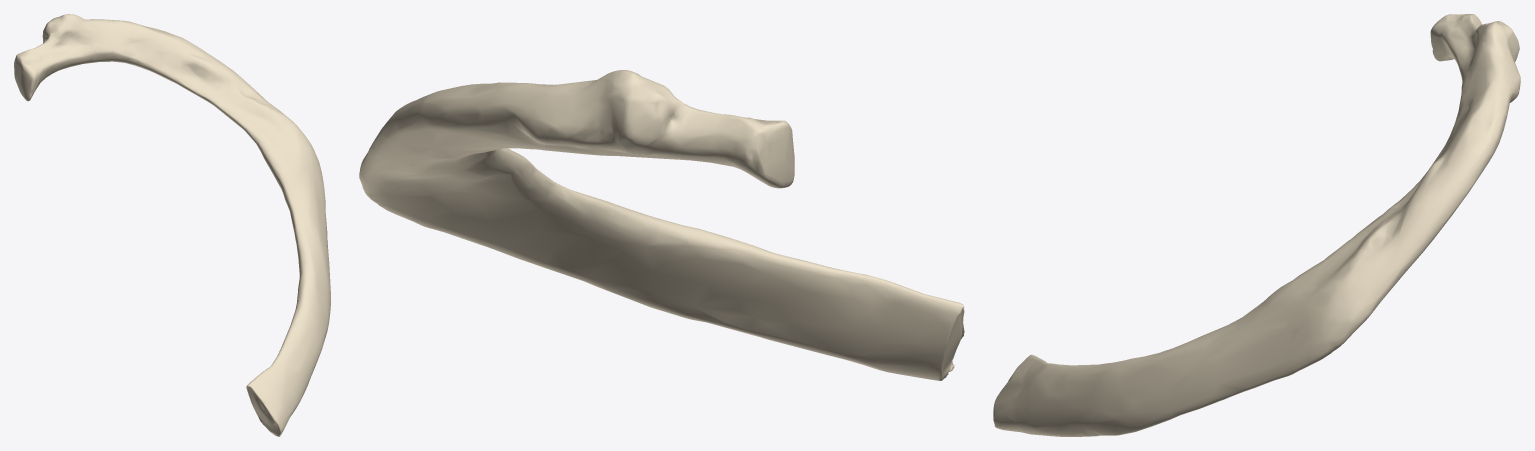
File: second-rib-l.glb
3 renders of one model, left to right at view 1: azimuth 30°, elevation 25°; view 2: azimuth 150°, elevation 25°; view 3: azimuth 270°, elevation 25°, orthographic. The views are drawn at different scales.
Parts seen in each view (by area): view 1: Second rib.l; view 2: Second rib.l; view 3: Second rib.l.
Boxes of the visible parts, bbox=[...] form: Second rib.l: bbox=[14, 14, 330, 436]; Second rib.l: bbox=[359, 70, 964, 380]; Second rib.l: bbox=[993, 14, 1520, 436].
Bounding box in the file's own units: 0.0821 × 0.0913 × 0.112.
